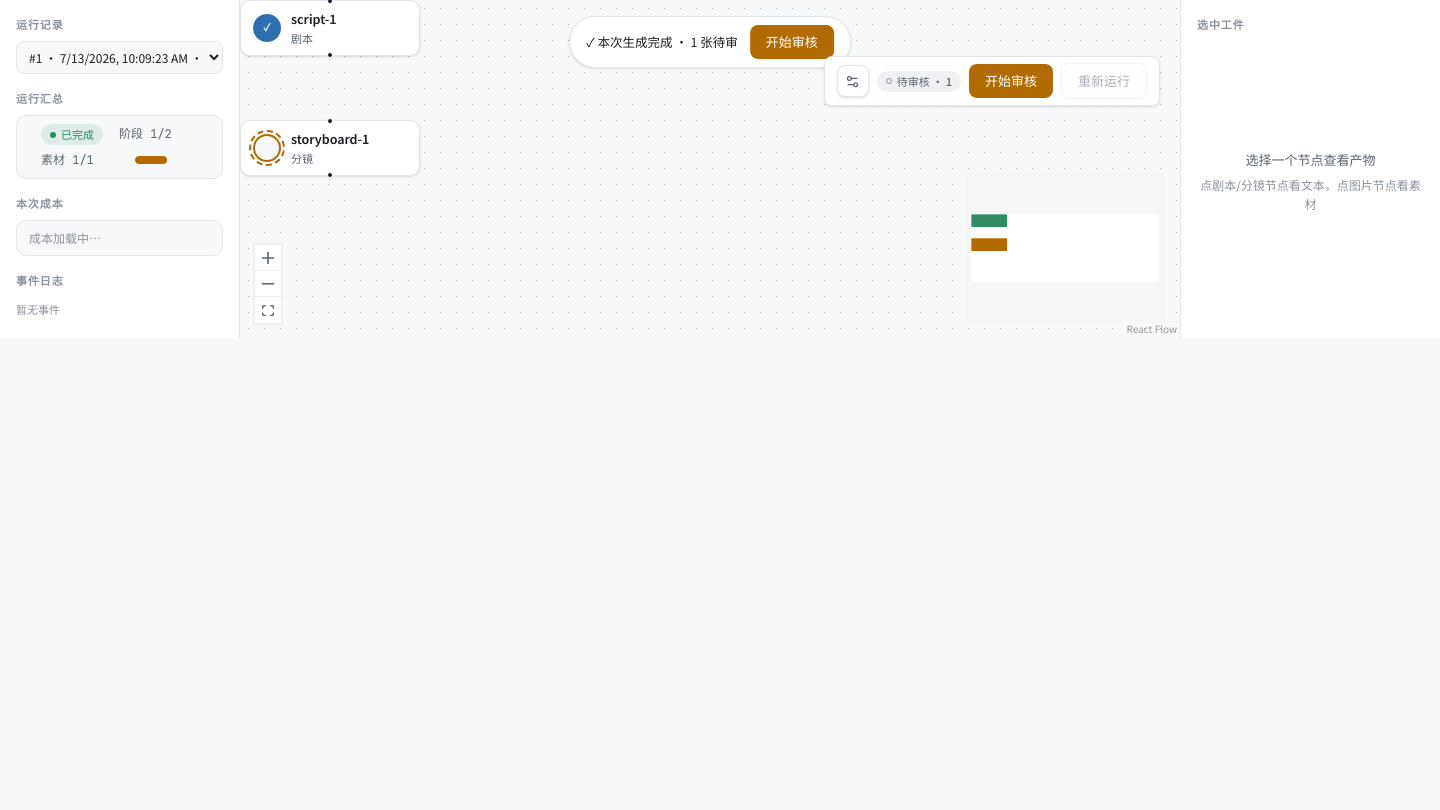
it: RunCanvas completion summons in-run review (variant A) › clicking 开始审核 opens the in-run review drawer (Dialog with the fused board)
What coordinates should you click on to do the following:
click the button "开始审核" next to "张待审"
I would click on:
 (792, 42)
Its box is [750,25,834,59].
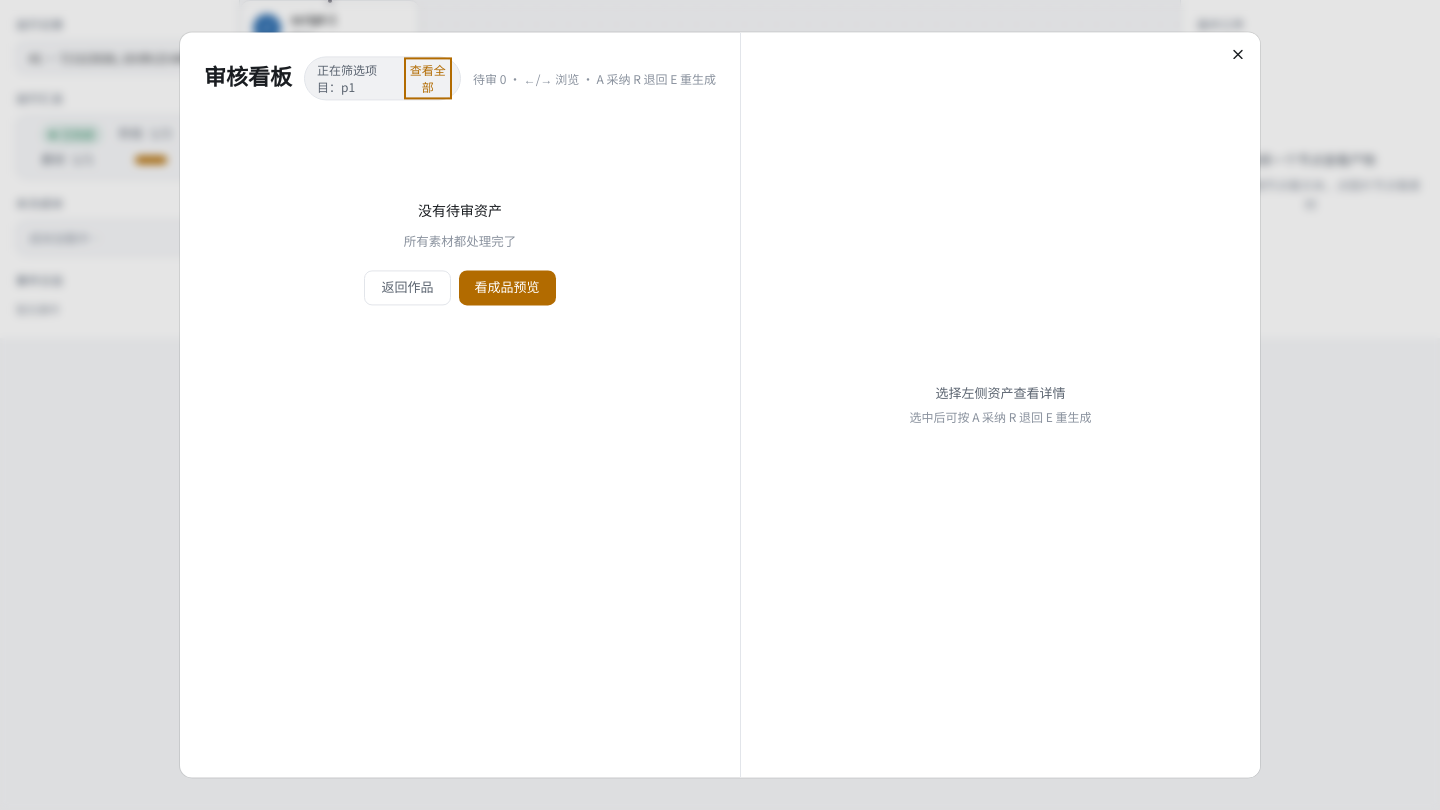
Expected: the text "没有待审资产" is shown, [418,201,502,221]
